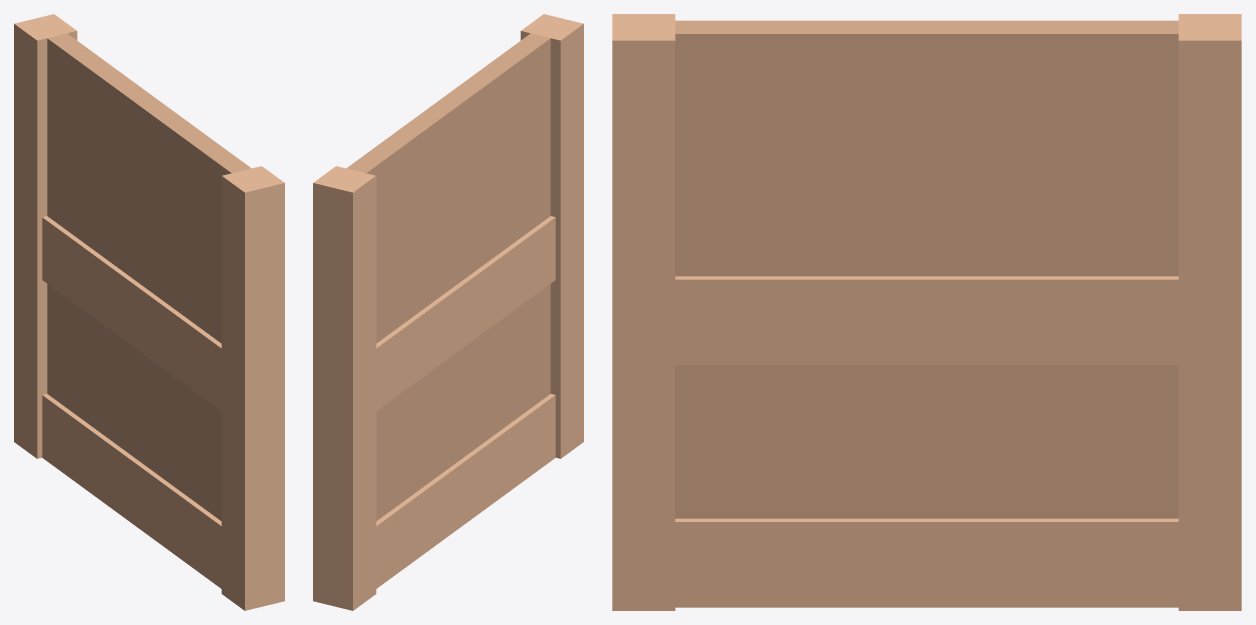
The model's file is wallWoodDetailHorizontal.glb.
3 views of the same model, side by side, from view 1: azimuth 30°, elevation 25°; view 2: azimuth 150°, elevation 25°; view 3: azimuth 270°, elevation 25° (orthographic). The views are drawn at different scales.
Parts seen in each view (by area): view 1: wallWoodDetailHorizontal; view 2: wallWoodDetailHorizontal; view 3: wallWoodDetailHorizontal.
Boxes of the visible parts, bbox=[...] form: wallWoodDetailHorizontal: bbox=[14, 14, 284, 610]; wallWoodDetailHorizontal: bbox=[313, 14, 583, 610]; wallWoodDetailHorizontal: bbox=[612, 14, 1241, 610].
Bounding box in the file's own units: 0.1 × 1 × 1.
